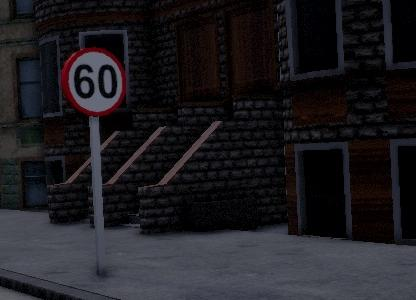Speed_60: (58, 46, 128, 113)
